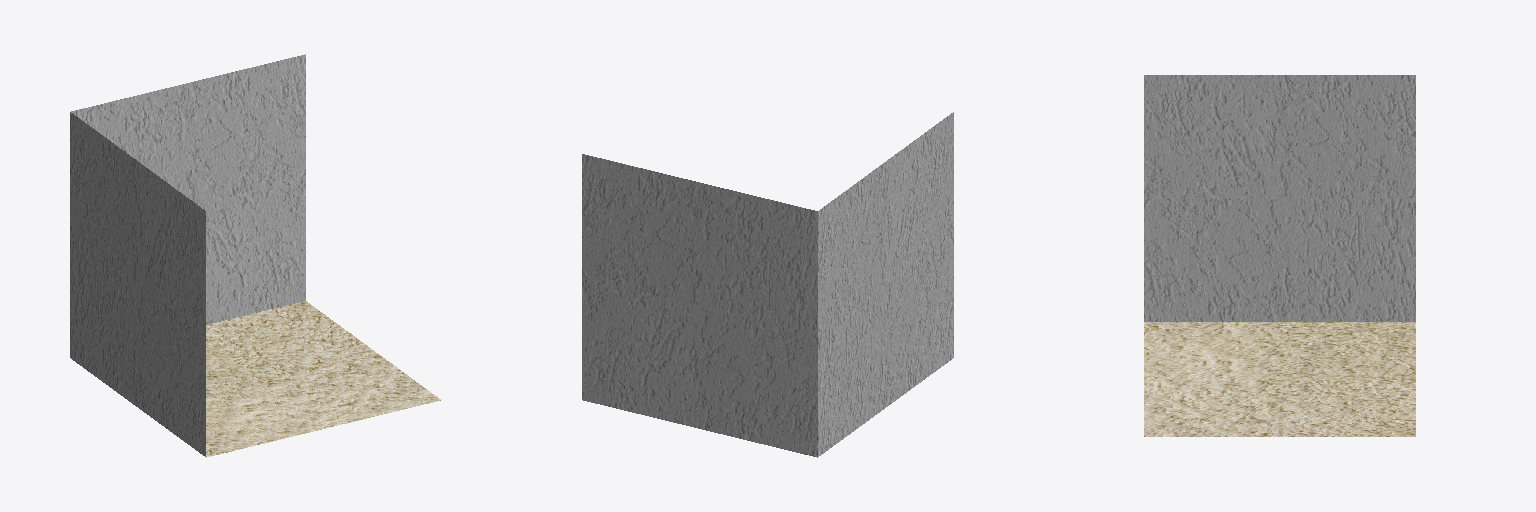
3 renders of one model, left to right at view 1: azimuth 30°, elevation 25°; view 2: azimuth 150°, elevation 25°; view 3: azimuth 270°, elevation 25°, orthographic.
Visible parts, largest first — view 1: pCube1; view 2: pCube1; view 3: pCube1.
Boxes of the visible parts, <box> form: pCube1: <box>70,54,440,457</box>; pCube1: <box>582,112,953,457</box>; pCube1: <box>1144,75,1415,436</box>.
Size of the model in its own units: 36 by 36 by 36.
Materials: 1 (1 with a texture image).